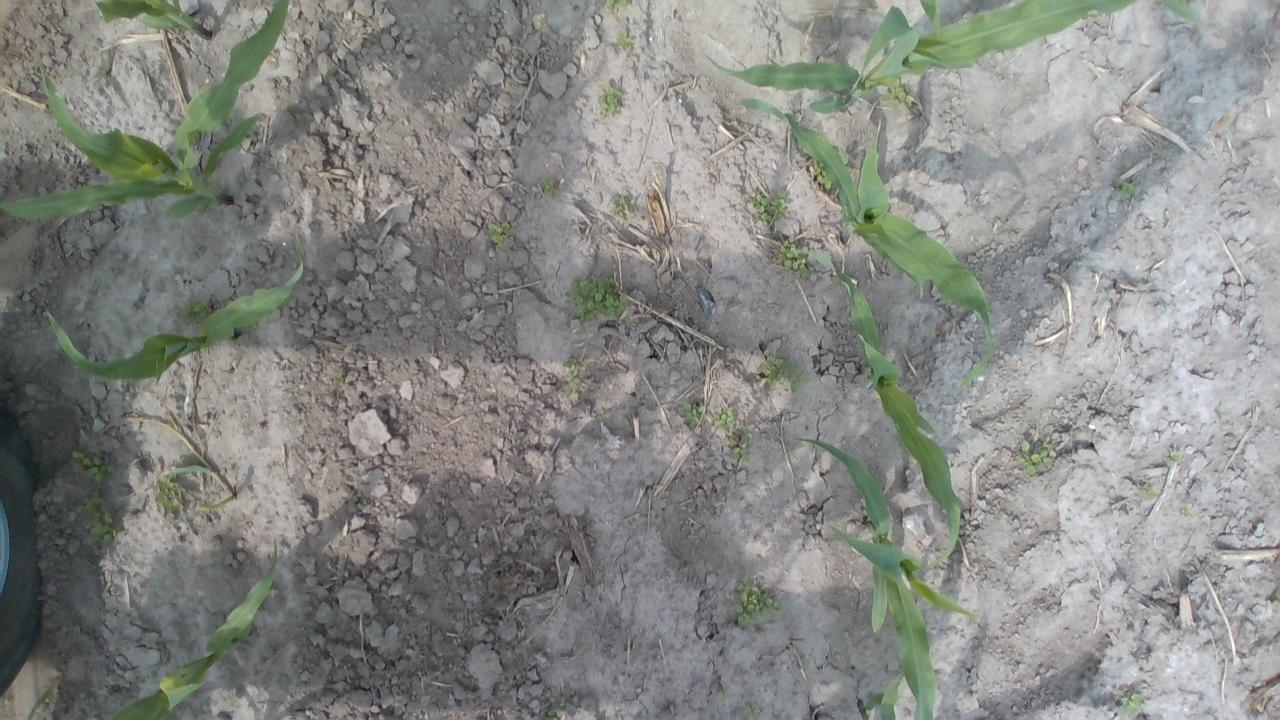Maize: (738, 94, 996, 388), (0, 1, 292, 220), (702, 0, 1206, 116), (794, 436, 974, 720), (812, 250, 962, 562), (44, 241, 306, 380), (106, 535, 280, 720), (96, 0, 216, 40)
Weeds: (564, 274, 620, 322), (713, 408, 749, 463), (734, 580, 771, 626), (88, 486, 114, 538), (66, 448, 103, 479), (759, 358, 800, 385), (748, 195, 786, 224), (150, 477, 178, 515), (1021, 440, 1054, 472), (562, 356, 581, 396), (780, 242, 809, 268), (599, 88, 621, 122), (486, 224, 514, 247), (884, 78, 906, 104), (1122, 694, 1144, 720), (680, 403, 700, 427), (613, 199, 632, 216), (540, 180, 557, 198), (741, 709, 760, 720), (1118, 180, 1135, 192), (607, 0, 627, 10), (1170, 449, 1184, 462), (617, 34, 630, 48), (1180, 505, 1192, 518), (1145, 486, 1158, 498), (336, 374, 344, 391)
